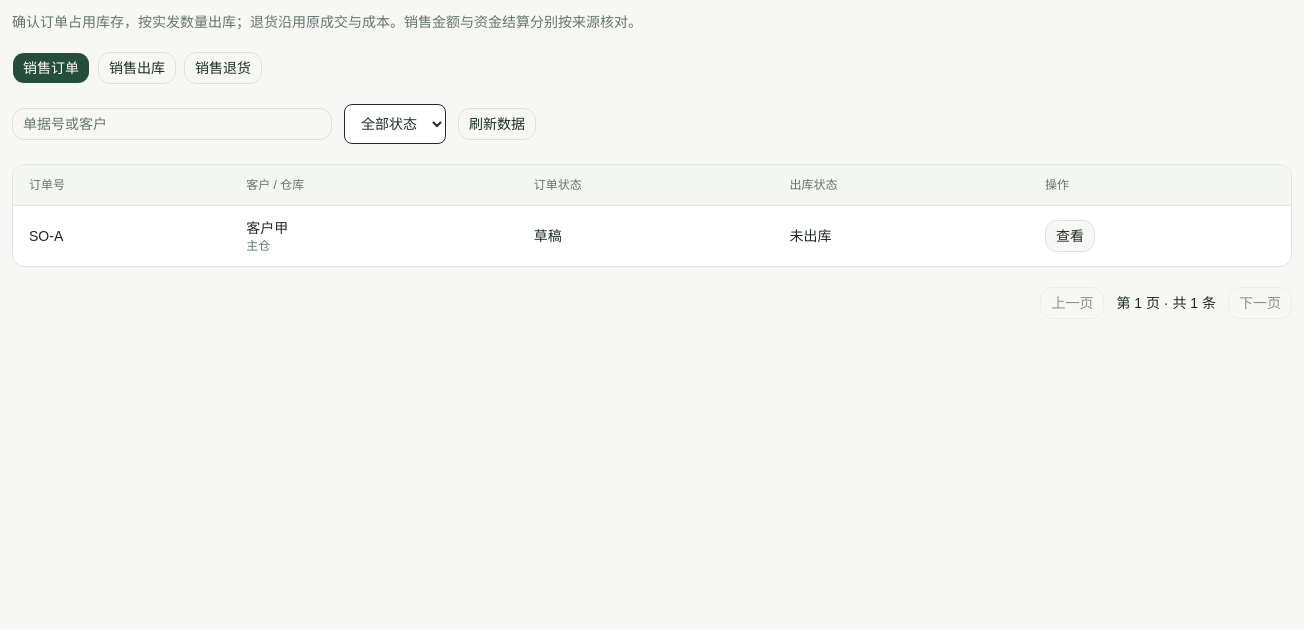
it: quantity reader hides commercial and cost fields even if a response contains them
Expected: the text "SO-A" is shown, top-left (13, 206), bottom-right (230, 266)
Click the button "查看". click: (1070, 236)
box: top-left (1045, 220), bottom-right (1095, 252)
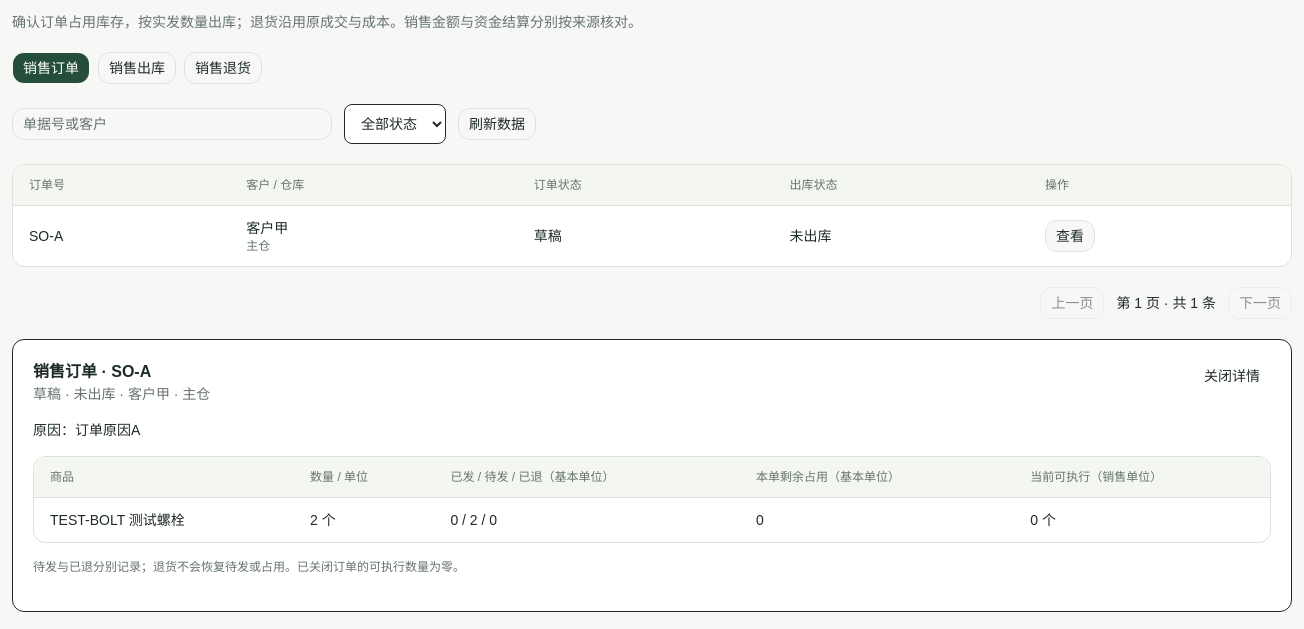
Expected: the element named "销售订单详情" is shown, top-left (12, 339), bottom-right (1292, 612)
